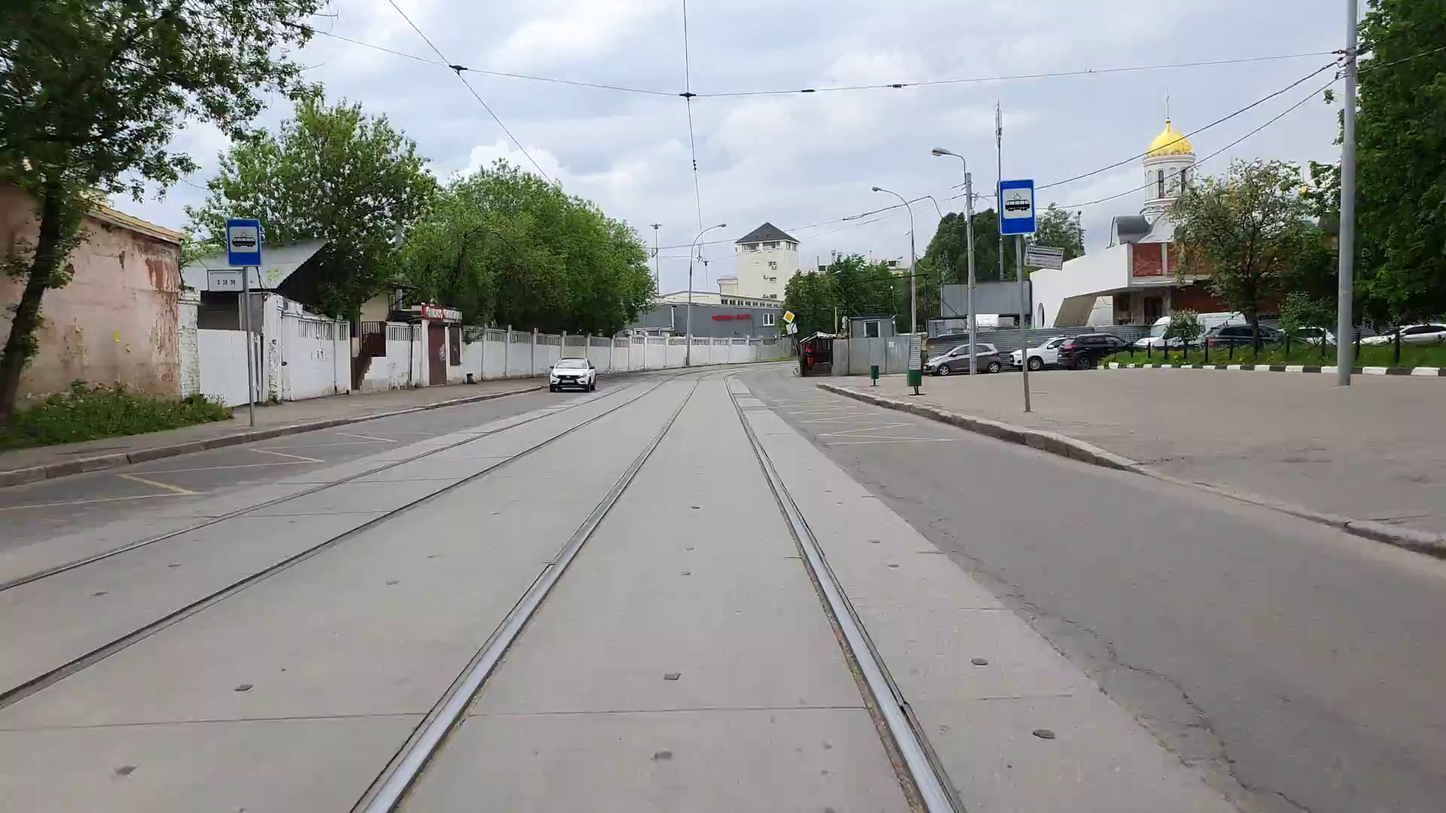acesa: (1154, 125, 1187, 157)
